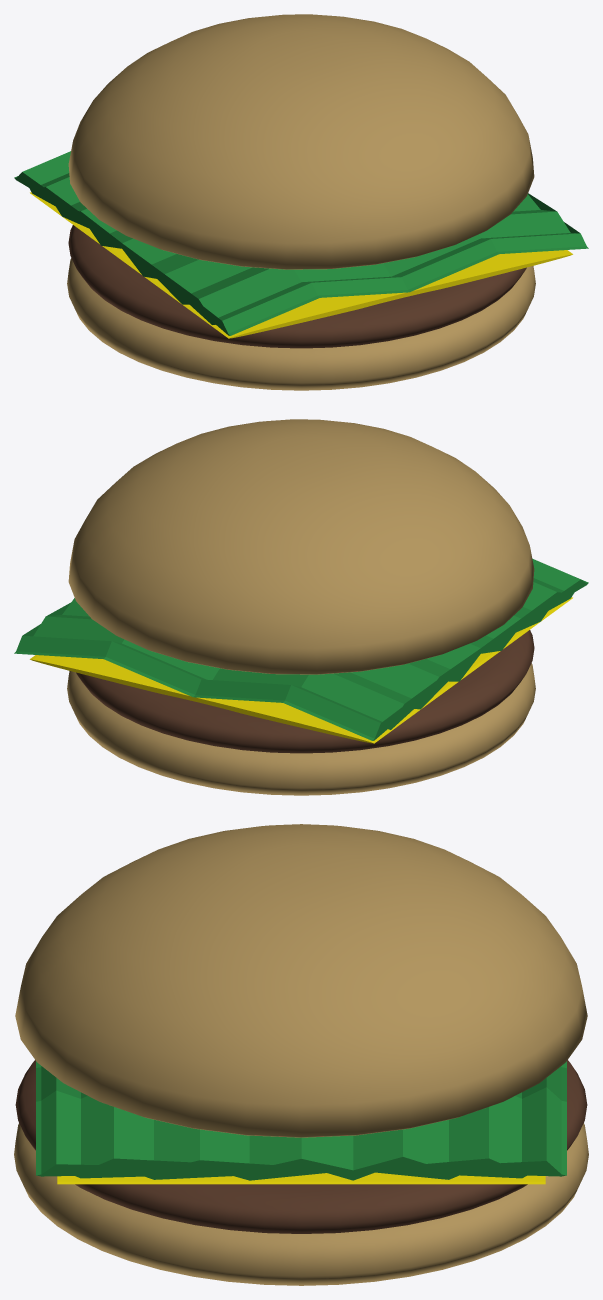
The model's file is burger to go.fbx.
3 renders of one model, top to bottom at view 1: azimuth 30°, elevation 25°; view 2: azimuth 150°, elevation 25°; view 3: azimuth 270°, elevation 25°, orthographic. The views are drawn at different scales.
Parts seen in each view (by area): view 1: Cylinder.001; view 2: Cylinder.001; view 3: Cylinder.001.
Part boxes in pixels (bbox=[...]): Cylinder.001: bbox=[14, 14, 588, 390]; Cylinder.001: bbox=[14, 419, 588, 795]; Cylinder.001: bbox=[14, 824, 588, 1285].
Bounding box in the file's own units: 251 × 146 × 251.
